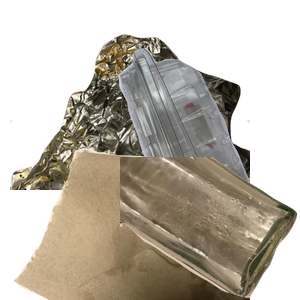glass: (120, 157, 300, 300)
metal: (10, 32, 250, 212)
plastic: (71, 45, 300, 225)
trash: (10, 120, 250, 300)
